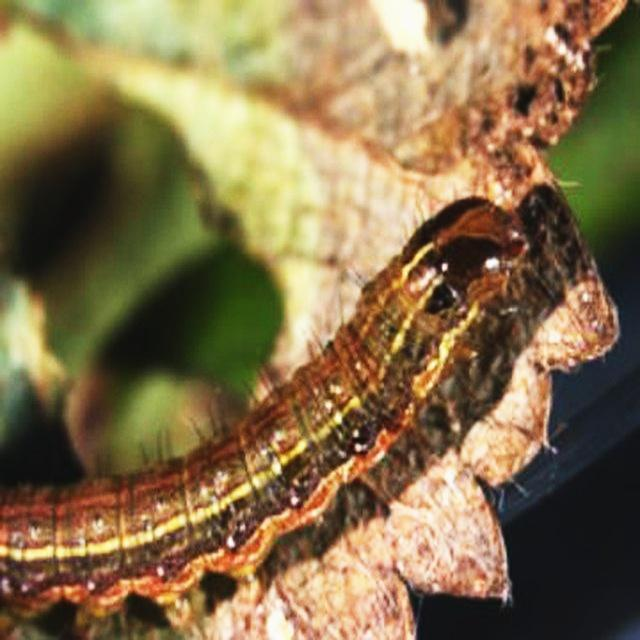gusano_cogollero: (1, 186, 530, 635)
